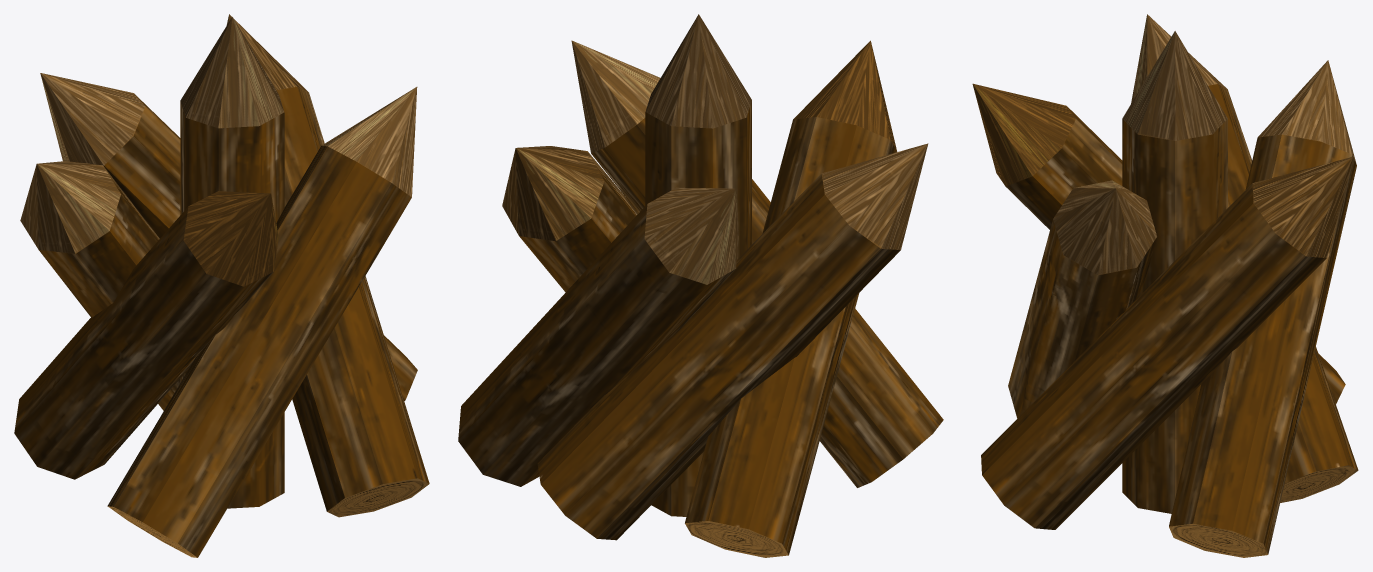
The model's file is Barricade.fbx.
3 views of the same model, side by side, from view 1: azimuth 30°, elevation 25°; view 2: azimuth 150°, elevation 25°; view 3: azimuth 270°, elevation 25° (orthographic). The views are drawn at different scales.
Visible parts, largest first — view 1: pCylinder2; view 2: pCylinder2; view 3: pCylinder2.
Boxes of the visible parts, <box> form: pCylinder2: <box>14,14,429,557</box>; pCylinder2: <box>458,14,943,557</box>; pCylinder2: <box>972,14,1358,557</box>.
Size of the model in its own units: 17.7 by 19.27 by 14.61.
Materials: 1 (1 with a texture image).
